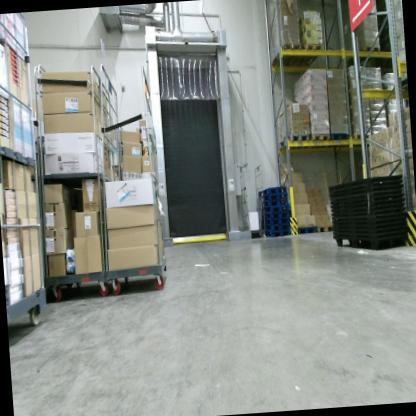pallet: (271, 42, 304, 70), (291, 42, 325, 69), (344, 42, 381, 64), (277, 130, 312, 150), (258, 183, 288, 197), (259, 203, 291, 215), (256, 192, 289, 203), (352, 128, 373, 145), (261, 217, 292, 228), (260, 223, 292, 233), (259, 210, 290, 220), (258, 198, 289, 208), (311, 130, 331, 145), (262, 230, 291, 240), (316, 224, 338, 236), (293, 224, 317, 235), (331, 132, 352, 144)
